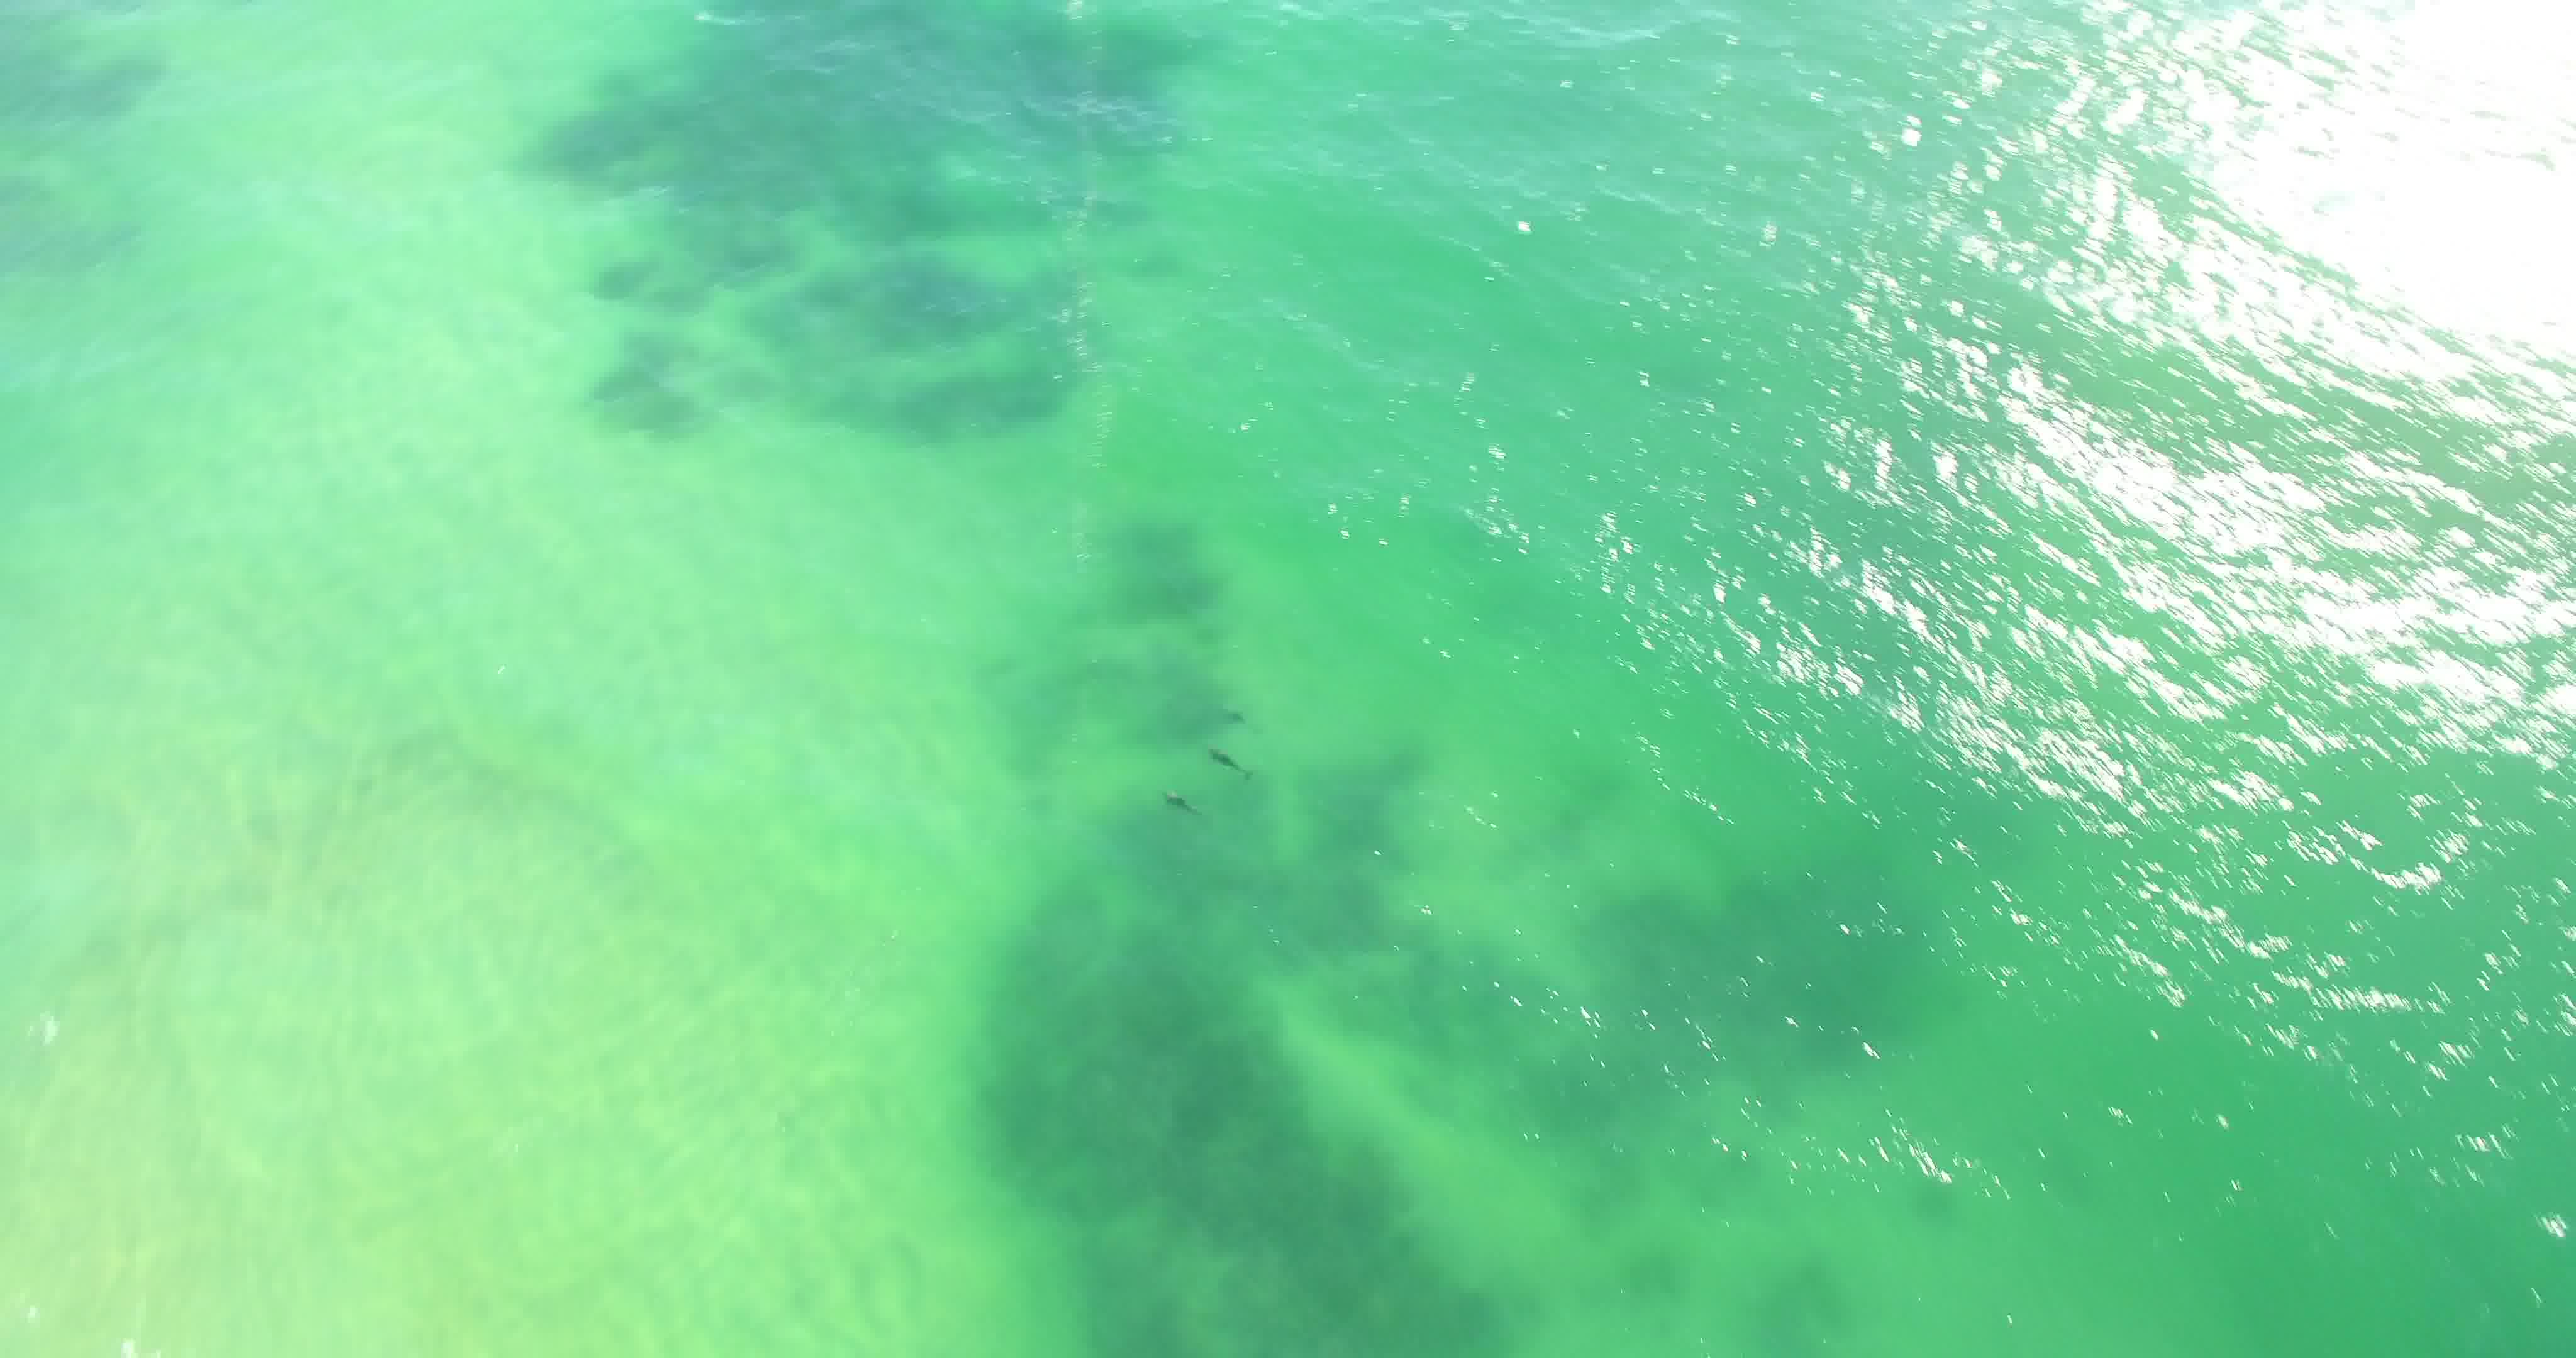dolphin: (1184, 728, 1261, 780), (1199, 688, 1276, 741), (1143, 772, 1211, 826)
